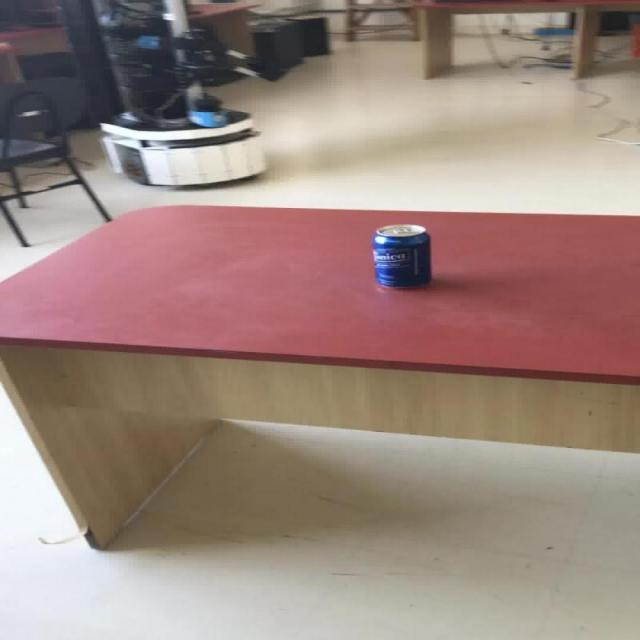Tonic: (370, 223, 431, 287)
